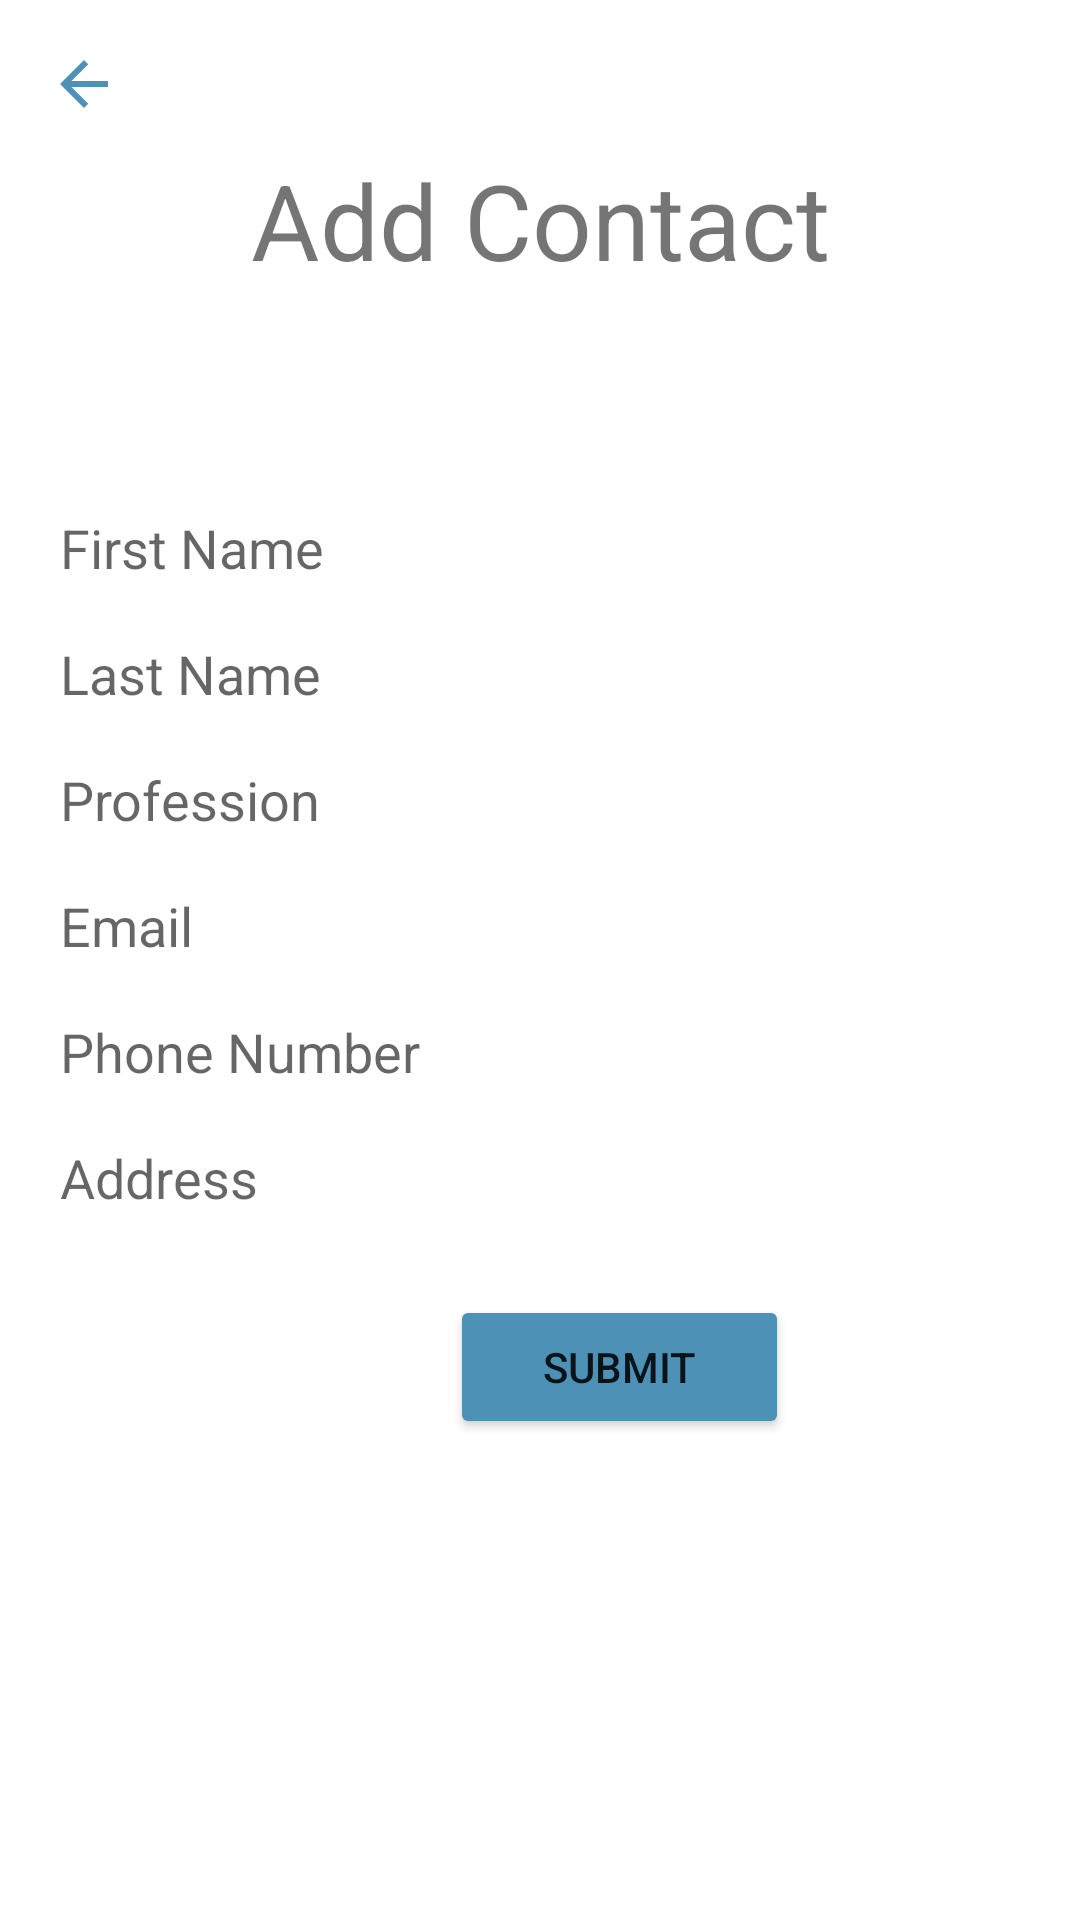

Locate icon controls on the screen. Image size 1080*1920, boxes as (x1, y1, x2, y2).
Return to previous page: (60, 60, 108, 108)
